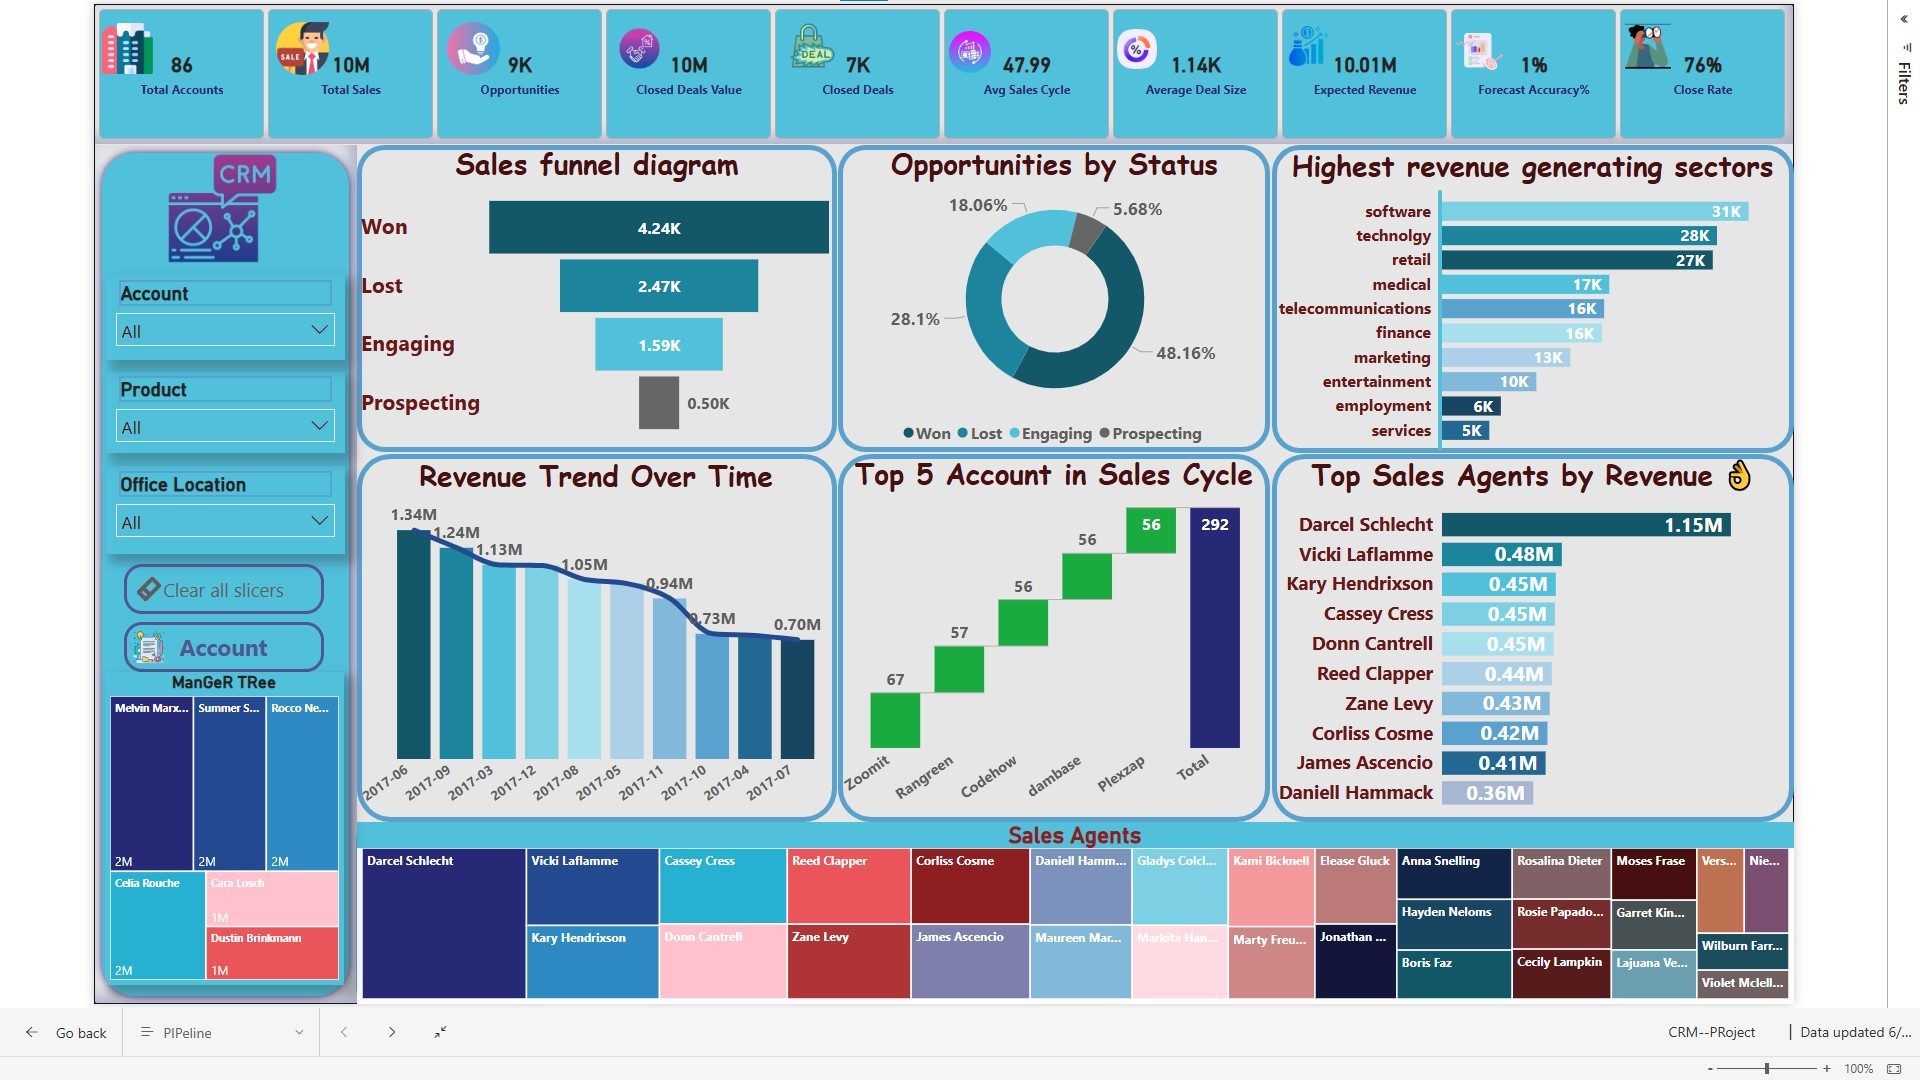

What the dashboard file says about the page in this screenshot:
{"tool":"powerbi","page":{"name":"PIPeline","canvas":[1700,1000],"ordinal":0},"visuals":[{"type":"shape","box":[0,141.5,263.4,858.5],"z":0},{"type":"shape","box":[744.3,140.9,431.6,306.8],"z":1000},{"type":"shape","box":[263.4,450,479.3,368.3],"z":2000},{"type":"shape","box":[262.8,140.9,480.1,306.8],"z":3000},{"type":"shape","box":[743.9,450,432,368.3],"z":4000},{"type":"shape","box":[1178,141.5,522,307.3],"z":5000},{"type":"shape","box":[1178,450,522,368.3],"z":6000},{"type":"shape","box":[264.2,819.2,1435.8,181.2],"z":7000},{"type":"cardVisual","fields":{"Data":["Calendar.Total Accounts","Calendar.Total Sales","Calendar.Total Opportunities","Calendar.Closed Deals Value","Calendar.Closed Deals","Calendar.Avg Sales Cycle","Calendar.Average Deal Size","Calendar.Expected Revenue","Calendar.Forecast Accuracy %","Calendar.Close Rate"]},"box":[0,0,1700,140.2],"z":8000},{"type":"funnel","title":"Sales funnel diagram","fields":{"Category":["sales_pipeline.Deal Stage"],"Y":["CountNonNull(sales_pipeline.Opportunity Id)"]},"box":[262.3,138.9,482.4,309.1],"z":9000},{"type":"barChart","title":"Highest revenue generating sectors","fields":{"Y":["Subsidiary Of.Total Revenue by Sector"],"Category":["Subsidiary Of.Sector"]},"box":[1178,141.5,522,309.8],"z":10000},{"type":"donutChart","title":"Opportunities by Status","fields":{"Category":["sales_pipeline.Deal Stage"],"Y":["CountNonNull(sales_pipeline.Opportunity Id)"]},"box":[743.9,139,434.1,309.8],"z":11000},{"type":"clusteredBarChart","title":"Top Sales Agents by Revenue 👌 ","fields":{"Category":["sales_pipeline.Sales Agent"],"Y":["Sum(sales_pipeline.Close Value)"]},"box":[1178,450,522,368.3],"z":12000},{"type":"lineStackedColumnComboChart","title":"Revenue Trend Over Time","fields":{"Category":["sales_pipeline.Close-Month"],"Y":["Calendar.Closed Deals Value"],"Y2":["Calendar.Total Sales"]},"box":[262.3,451.1,480.8,366.9],"z":13000},{"type":"waterfallChart","title":"Top 5 Account in Sales Cycle","fields":{"Category":["sales_pipeline.Account"],"Y":["Calendar.Avg Sales Cycle"]},"box":[742.7,448.8,435.4,369.5],"z":14000},{"type":"shape","box":[262.3,818,1437.7,182.6],"z":15000},{"type":"treemap","title":"Sales Agents","fields":{"Group":["sales_pipeline.Sales Agent"],"Values":["Sum(sales_pipeline.Close Value)"]},"box":[262.8,817.7,1437.2,182],"z":16000},{"type":"slicer","fields":{"Values":["sales_pipeline.Account"]},"box":[12.2,271.1,239.3,85.1],"z":17000},{"type":"slicer","fields":{"Values":["sales_pipeline.Product"]},"box":[12.2,366.6,239.3,82.2],"z":18000},{"type":"slicer","fields":{"Values":["Subsidiary Of.Office Location"]},"box":[12.2,462,239.3,88.1],"z":19000},{"type":"actionButton","box":[30.5,559.5,200,50],"z":21000},{"type":"actionButton","box":[30.5,618.1,200,50],"z":22000},{"type":"treemap","title":"ManGeR TRee","fields":{"Group":["sales_teams.Manager"],"Values":["Sum(sales_pipeline.Close Value)"]},"box":[10.7,668,239.6,313.2],"z":23000},{"type":"image","box":[10.4,138,240.3,130.5],"z":23001},{"type":"image","box":[3,3,60.8,81.6],"z":23002},{"type":"image","box":[172.1,13.4,72.7,62.3],"z":23003},{"type":"image","box":[344.2,13.4,71.2,62.3],"z":23004},{"type":"image","box":[510.3,19.3,71.2,50.4],"z":23005},{"type":"image","box":[676.4,13.4,86,56.4],"z":23006},{"type":"image","box":[850,19.3,51.9,56.4],"z":23007},{"type":"image","box":[1017.6,13.4,50.4,62.3],"z":23008},{"type":"image","box":[1189.7,13.4,50.4,56.4],"z":23009},{"type":"image","box":[1357.3,19.3,56.4,56.4],"z":23010},{"type":"image","box":[1525.8,12.8,56.4,57.6],"z":23011}]}

Visuals, with their boxes on the page's 1700x1000 design canvas (x1, y1, x2, y2). These are canvas units, not pixel positions in the 1920x1080 screenshot, which may show the page scaled, cropped or inside an application window:
shape: x1=0, y1=142, x2=263, y2=1000
shape: x1=744, y1=141, x2=1176, y2=448
shape: x1=263, y1=450, x2=743, y2=818
shape: x1=263, y1=141, x2=743, y2=448
shape: x1=744, y1=450, x2=1176, y2=818
shape: x1=1178, y1=142, x2=1700, y2=449
shape: x1=1178, y1=450, x2=1700, y2=818
shape: x1=264, y1=819, x2=1700, y2=1000
cardVisual - Calendar.Total Accounts x Calendar.Total Sales: x1=0, y1=0, x2=1700, y2=140
"Sales funnel diagram" funnel: x1=262, y1=139, x2=745, y2=448
"Highest revenue generating sectors" barChart: x1=1178, y1=142, x2=1700, y2=451
"Opportunities by Status" donutChart: x1=744, y1=139, x2=1178, y2=449
"Top Sales Agents by Revenue 👌 " clusteredBarChart: x1=1178, y1=450, x2=1700, y2=818
"Revenue Trend Over Time" lineStackedColumnComboChart: x1=262, y1=451, x2=743, y2=818
"Top 5 Account in Sales Cycle" waterfallChart: x1=743, y1=449, x2=1178, y2=818
shape: x1=262, y1=818, x2=1700, y2=1001
"Sales Agents" treemap: x1=263, y1=818, x2=1700, y2=1000
slicer - sales_pipeline.Account: x1=12, y1=271, x2=252, y2=356
slicer - sales_pipeline.Product: x1=12, y1=367, x2=252, y2=449
slicer - Subsidiary Of.Office Location: x1=12, y1=462, x2=252, y2=550
actionButton: x1=30, y1=560, x2=230, y2=610
actionButton: x1=30, y1=618, x2=230, y2=668
"ManGeR TRee" treemap: x1=11, y1=668, x2=250, y2=981
image: x1=10, y1=138, x2=251, y2=268
image: x1=3, y1=3, x2=64, y2=85
image: x1=172, y1=13, x2=245, y2=76
image: x1=344, y1=13, x2=415, y2=76
image: x1=510, y1=19, x2=582, y2=70
image: x1=676, y1=13, x2=762, y2=70
image: x1=850, y1=19, x2=902, y2=76
image: x1=1018, y1=13, x2=1068, y2=76
image: x1=1190, y1=13, x2=1240, y2=70
image: x1=1357, y1=19, x2=1414, y2=76
image: x1=1526, y1=13, x2=1582, y2=70
